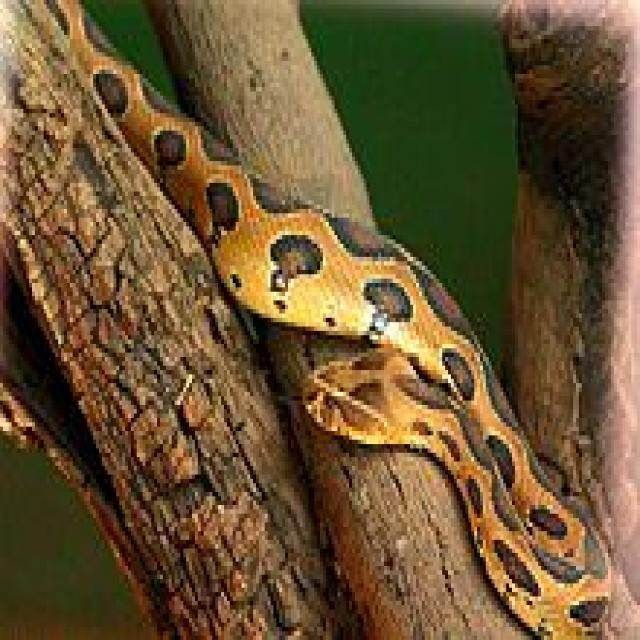Snake: (0, 0, 617, 636)
